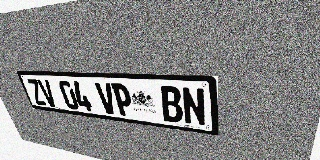0: (57, 80, 80, 110)
4: (70, 81, 93, 112)
B: (159, 86, 184, 124)
N: (181, 87, 206, 126)
P: (111, 83, 135, 117)
V: (94, 82, 118, 115), (37, 79, 58, 107)
Z: (26, 79, 47, 106)
